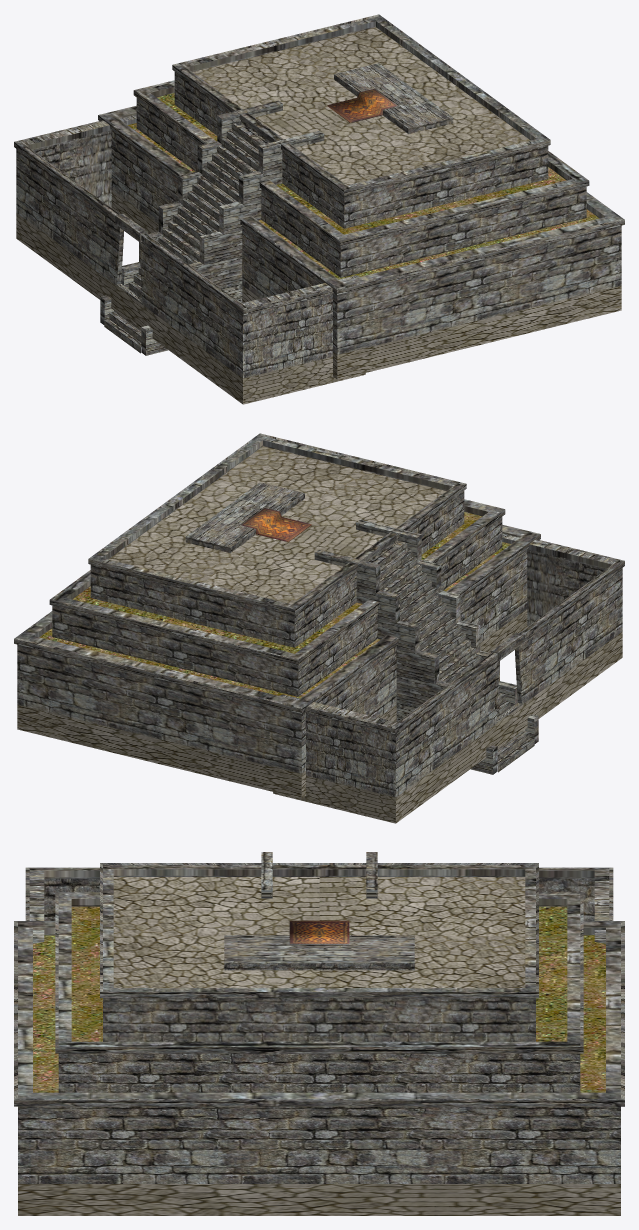
The model's file is inca_ushnu.dae.
The picture shows the model from 3 angles, top to bottom: view 1: azimuth 30°, elevation 25°; view 2: azimuth 150°, elevation 25°; view 3: azimuth 270°, elevation 25°; orthographic projection. The views are drawn at different scales.
Parts seen in each view (by area): view 1: ushnu; view 2: ushnu; view 3: ushnu.
Boxes of the visible parts, left/top/right/bottom form: ushnu: left=14, top=14, right=624, bottom=404; ushnu: left=14, top=433, right=624, bottom=823; ushnu: left=14, top=852, right=624, bottom=1215.
Bounding box in the file's own units: 28.39 × 30.71 × 12.73.
